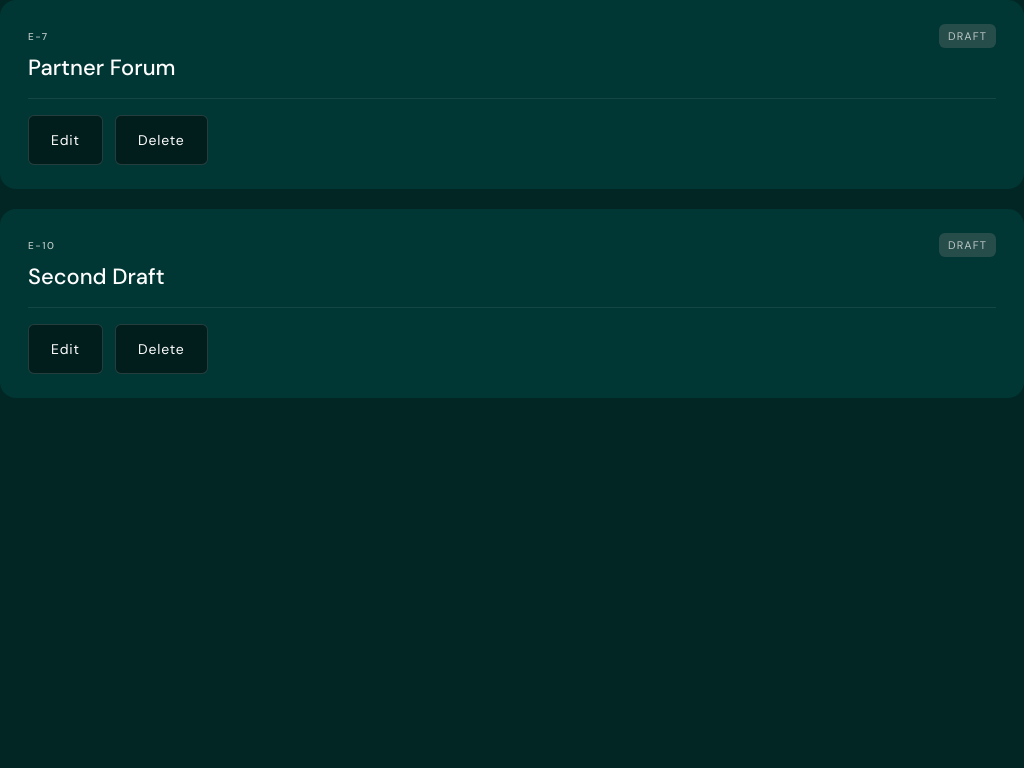
Test: [FAILURE] [SG2-32:AC1] clicking Delete on a different draft clears an existing delete error
This screenshot has width=1024, height=768.
What coordinates should you click on to do the following:
click the button "Delete" below "Partner Forum"
I would click on:
 (161, 140)
Its box is [115,115,208,165].
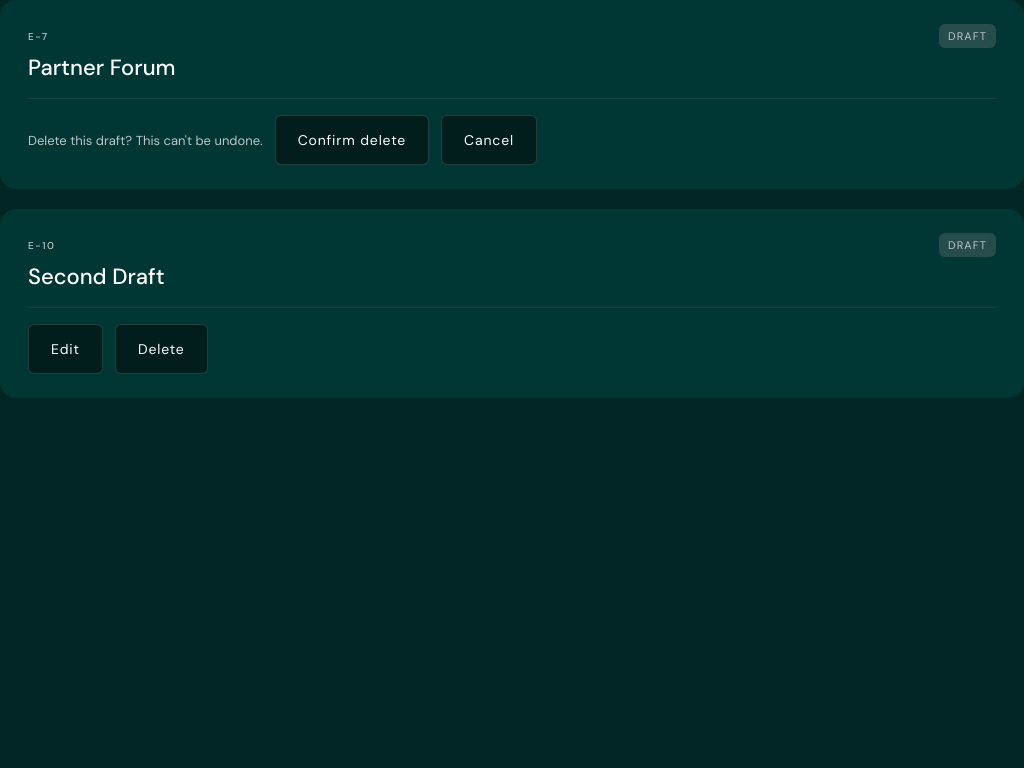
What coordinates should you click on to do the following:
click the button "Confirm delete"
I would click on:
 (352, 140)
Its box is [275,115,429,165].
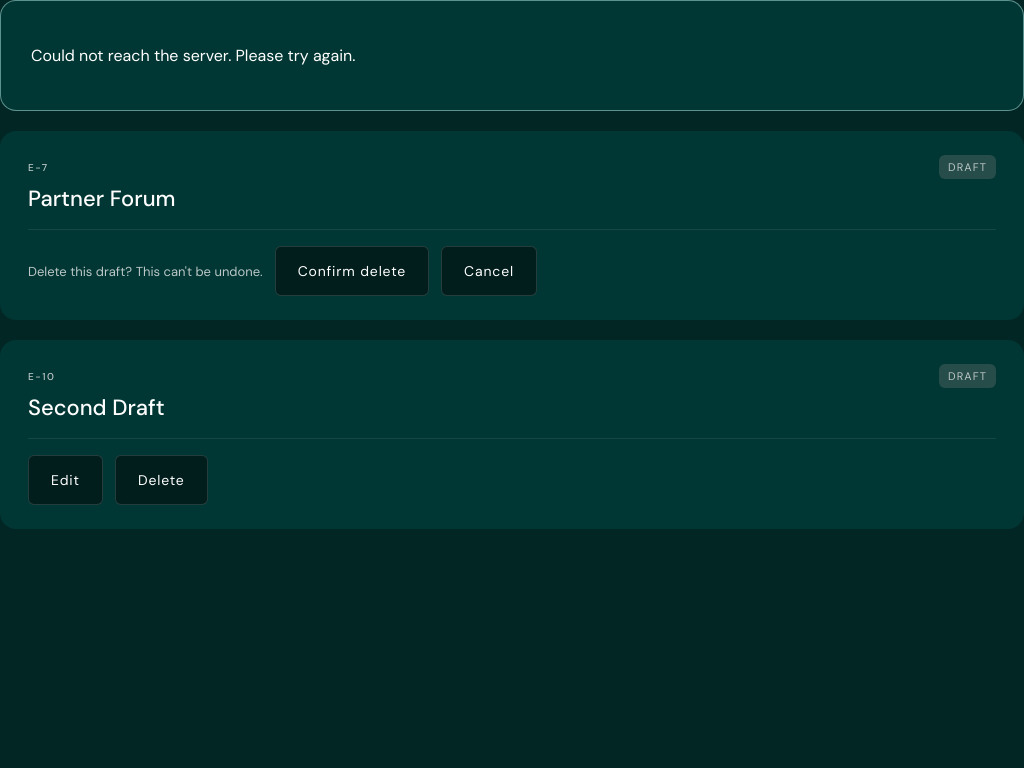
Expected: the text "Could not reach the server. Please try again." is shown, [31,45,356,66]
What coordinates should you click on to do the following:
click the button "Delete"
I would click on:
 (161, 480)
Its box is [115,455,208,505].
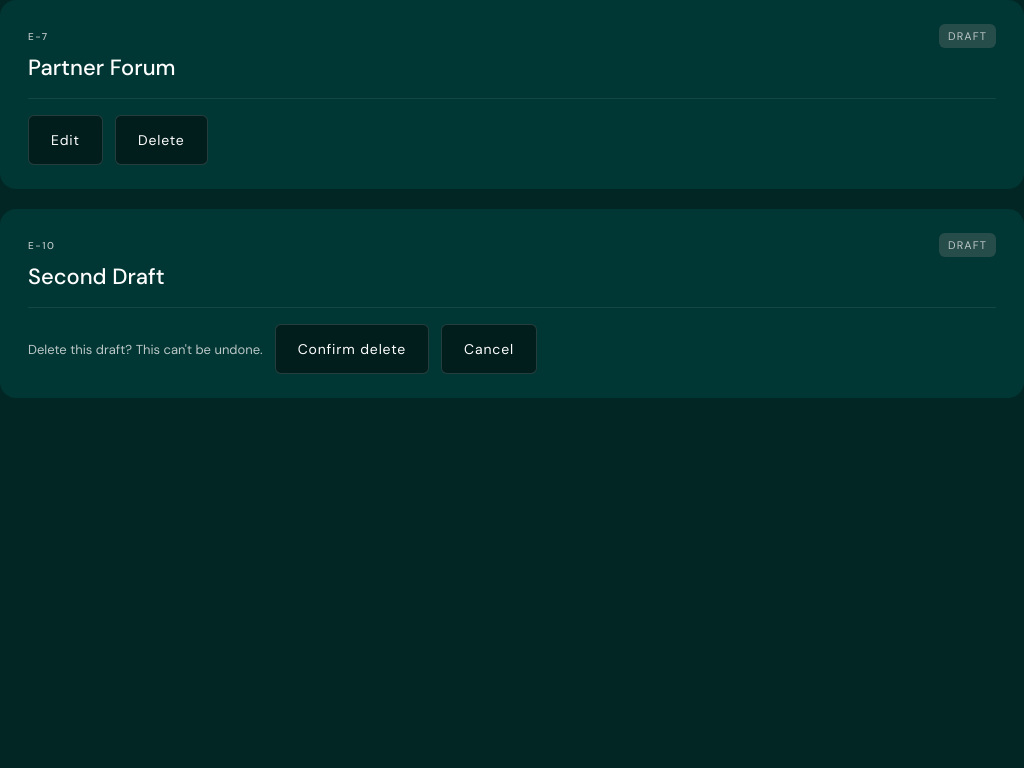
Expected: the text "Could not reach the server. Please try again." is gone
